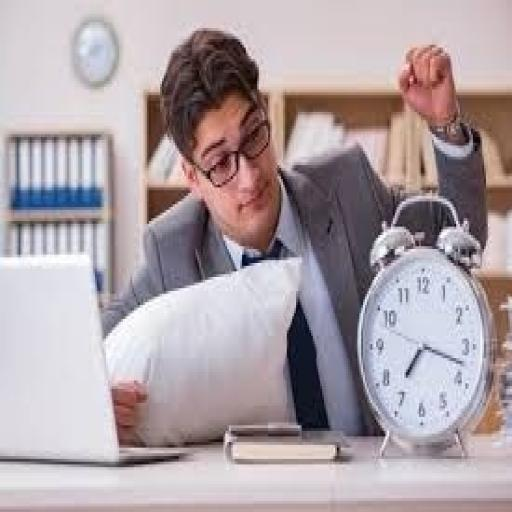sleeping: (96, 22, 490, 442)
